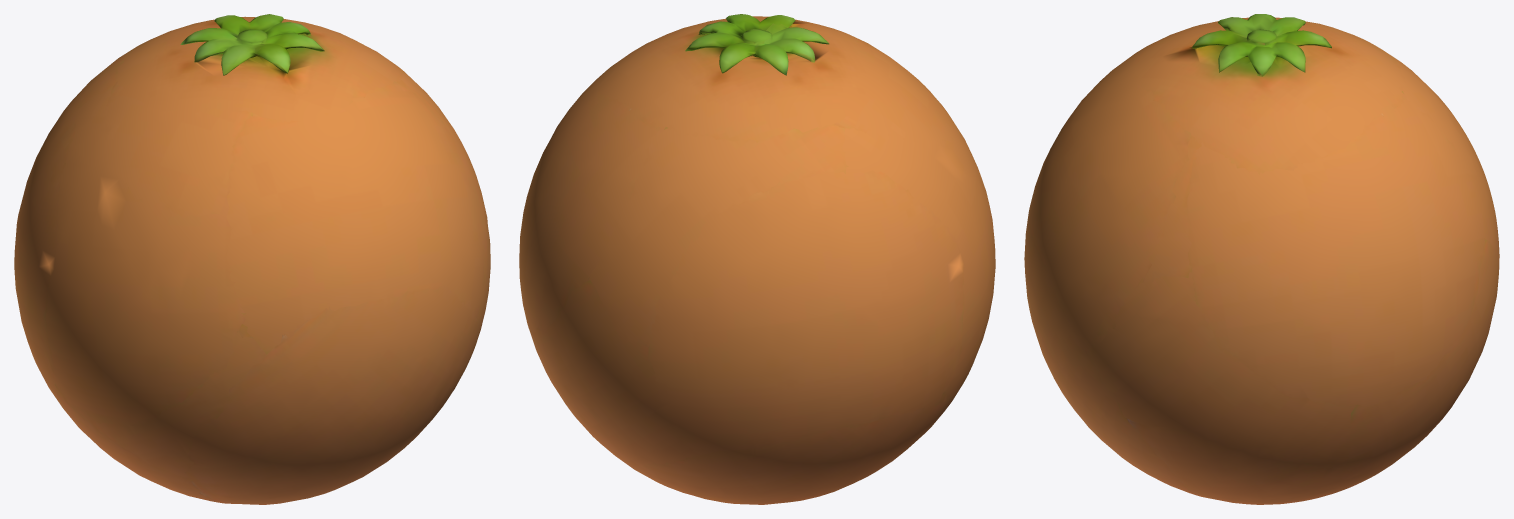
Rendered from orange.glb.
The picture shows the model from 3 angles, left to right: view 1: azimuth 30°, elevation 25°; view 2: azimuth 150°, elevation 25°; view 3: azimuth 270°, elevation 25°; orthographic projection.
Parts seen in each view (by area): view 1: material; view 2: material; view 3: material.
Part boxes in pixels (x1,y1,x2,y2): material: (14,14,490,504); material: (519,14,995,504); material: (1024,14,1499,504).
Size of the model in its own units: 1.13 by 1.18 by 1.13.
1 material, 1 textured.
